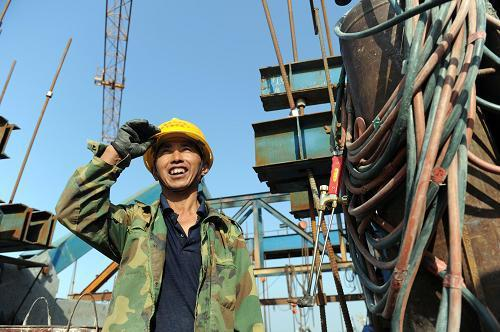helmet: (145, 110, 221, 202)
